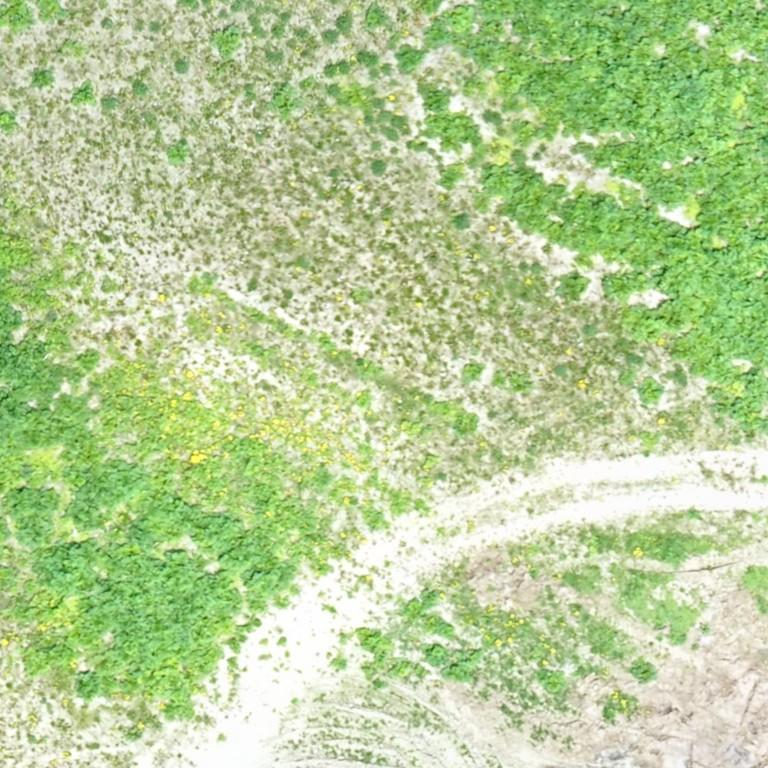hogweed: (425, 0, 767, 429), (28, 464, 312, 721), (0, 390, 147, 530), (0, 234, 99, 401), (424, 85, 480, 151), (6, 488, 59, 548), (357, 627, 392, 678), (443, 651, 483, 675), (210, 25, 240, 56), (397, 45, 422, 74), (271, 84, 298, 110), (71, 79, 96, 103), (631, 661, 656, 681), (367, 4, 385, 27), (427, 645, 447, 664), (32, 70, 54, 87), (0, 111, 14, 130)
